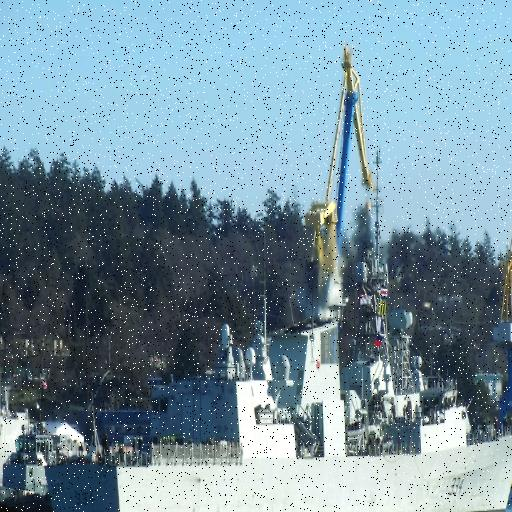Fragata: (40, 195, 512, 512)
